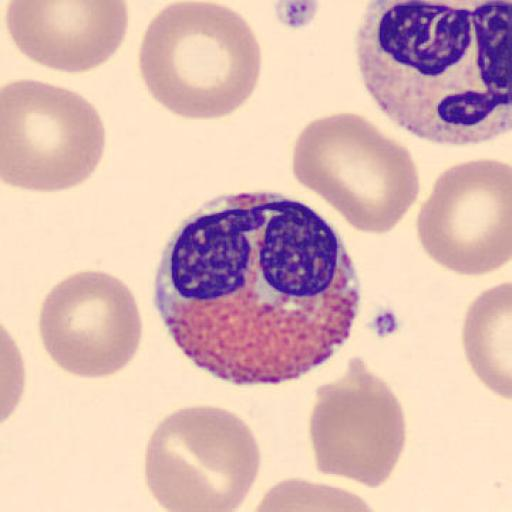RBC: (291, 110, 422, 237), (137, 0, 263, 121), (143, 403, 262, 512), (308, 362, 407, 489), (37, 268, 145, 382), (2, 78, 108, 193), (415, 155, 512, 278), (4, 0, 131, 75), (461, 280, 512, 404), (247, 475, 384, 512), (1, 324, 26, 430)
WBC: (153, 188, 363, 386), (354, 2, 512, 146)
